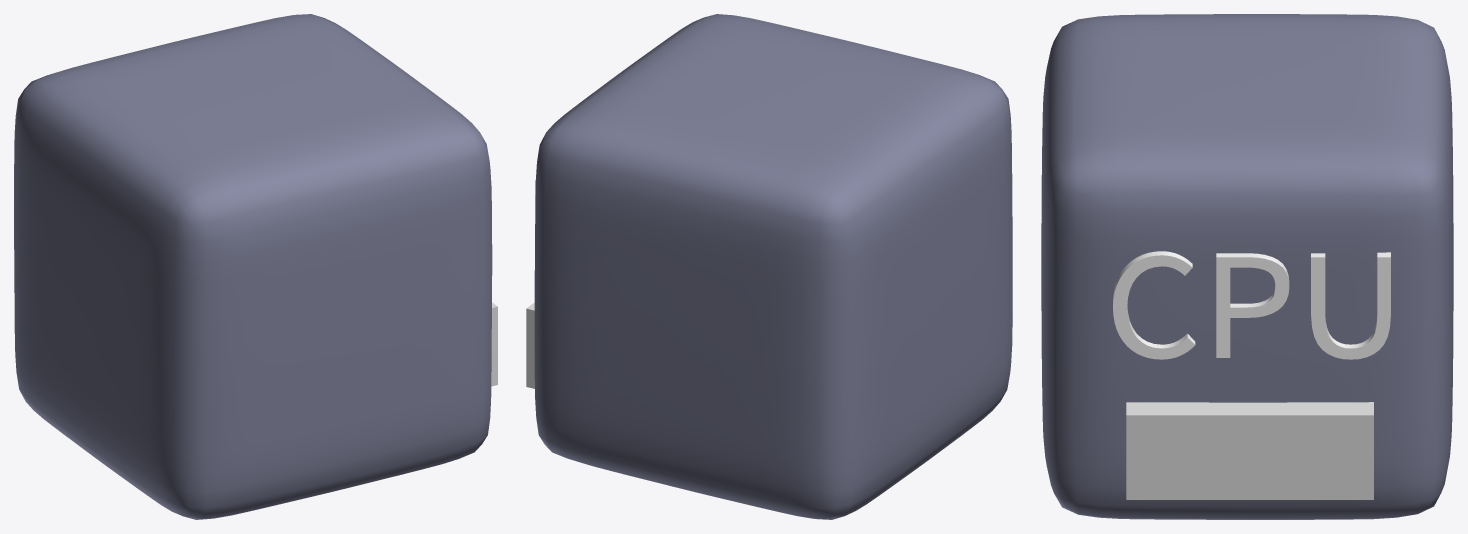
File: cpu.fbx
3 renders of one model, left to right at view 1: azimuth 30°, elevation 25°; view 2: azimuth 150°, elevation 25°; view 3: azimuth 270°, elevation 25°, orthographic. The views are drawn at different scales.
Parts seen in each view (by area): view 1: pCube1, pCube2; view 2: pCube1, pCube2; view 3: pCube1, pCube2, typeMesh1.
Part boxes in pixels (bbox=[...]): pCube1: bbox=[14, 14, 492, 519]; pCube2: bbox=[491, 302, 497, 386]; pCube1: bbox=[534, 14, 1012, 519]; pCube2: bbox=[526, 302, 534, 388]; pCube1: bbox=[1041, 14, 1453, 519]; pCube2: bbox=[1126, 402, 1373, 499]; typeMesh1: bbox=[1113, 251, 1390, 359].
Bounding box in the file's own units: 3.7 × 3.45 × 3.45.
